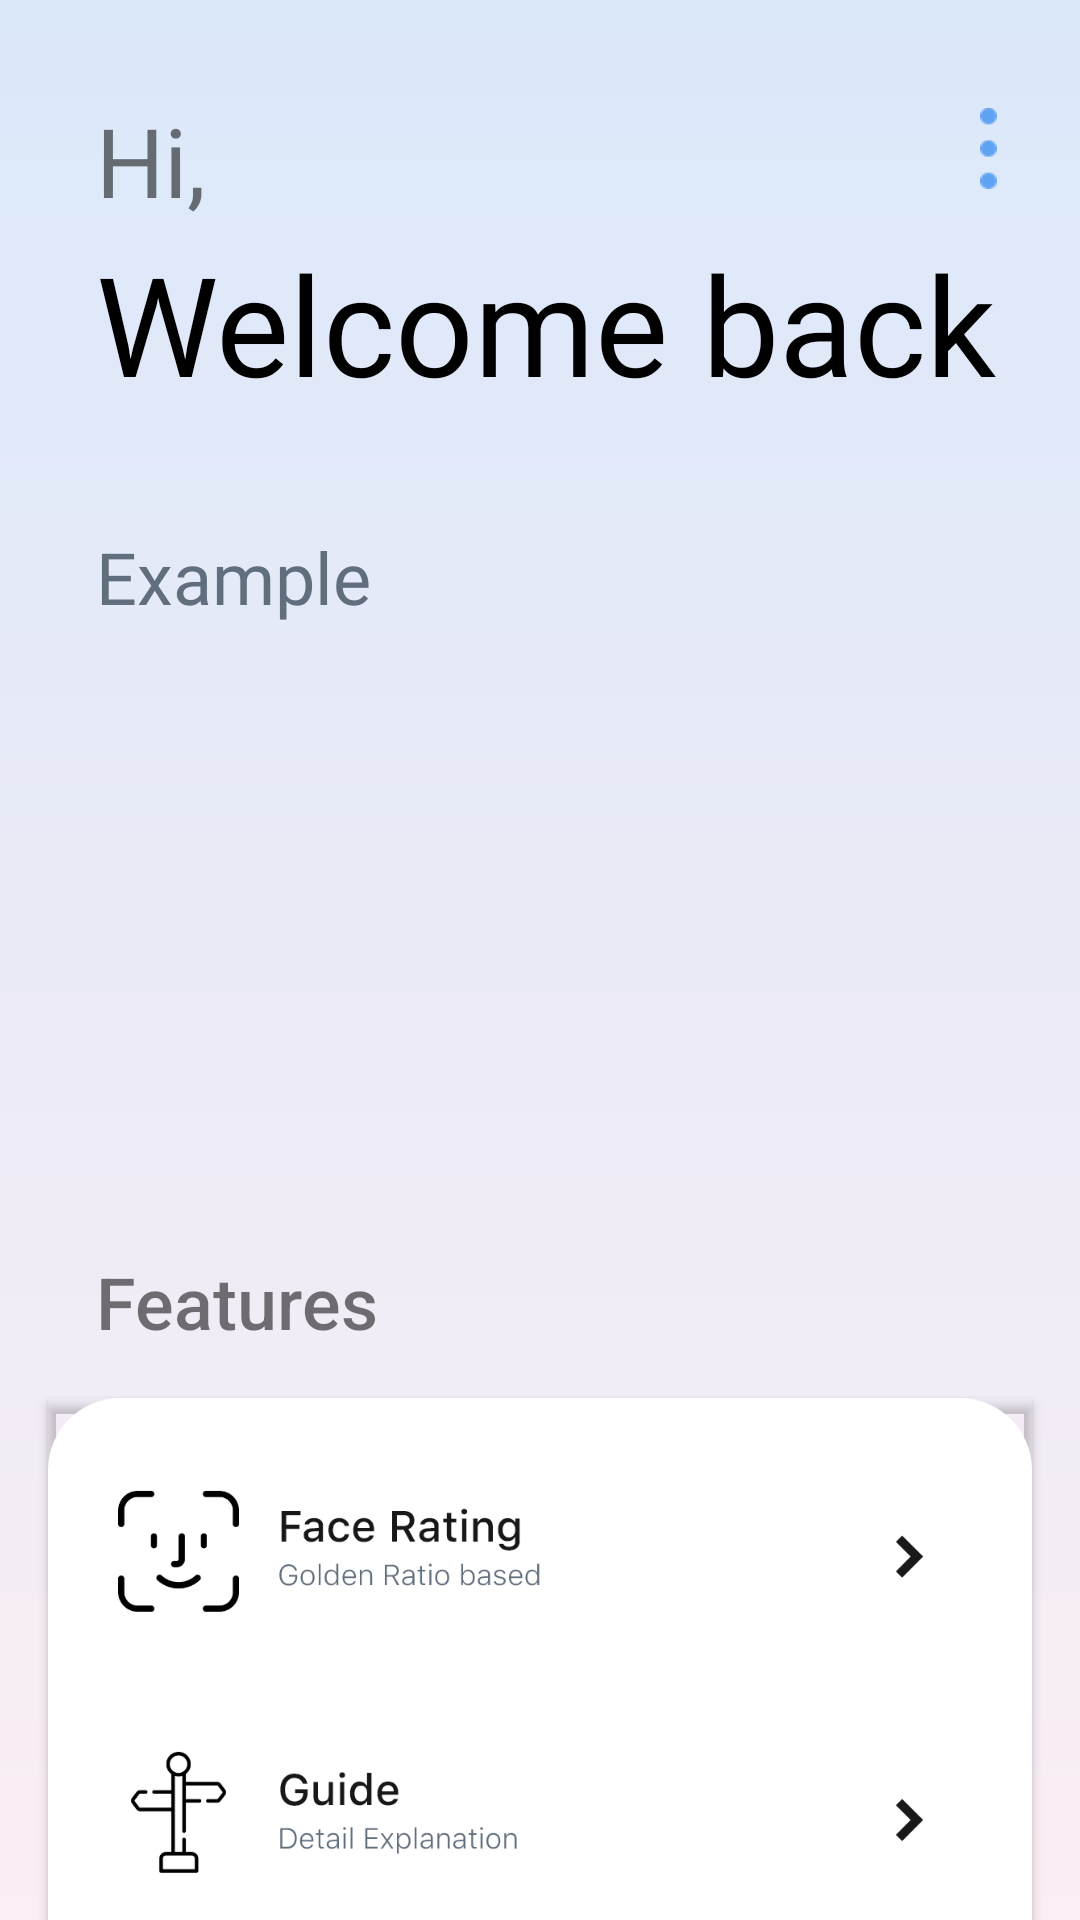

Named icons in this screenshot (1080w x 1920h) and their bounding boxes, [x1, y1, x2, y2]:
options: [980, 108, 997, 189]
